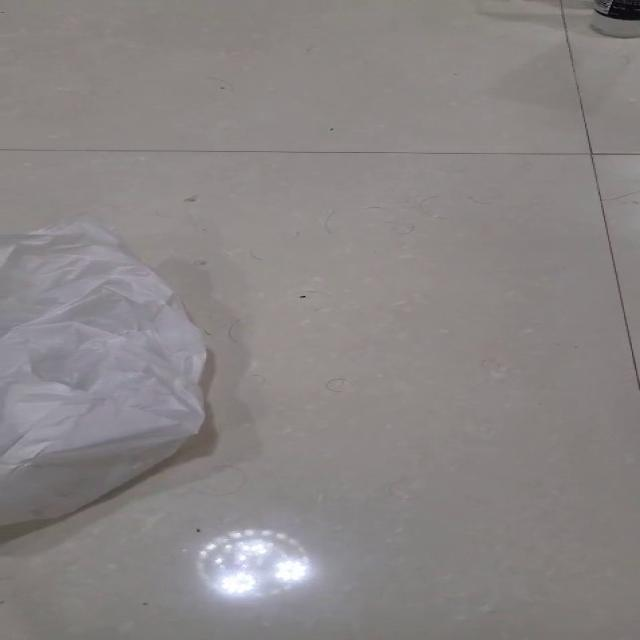plastic: (0, 218, 209, 526)
